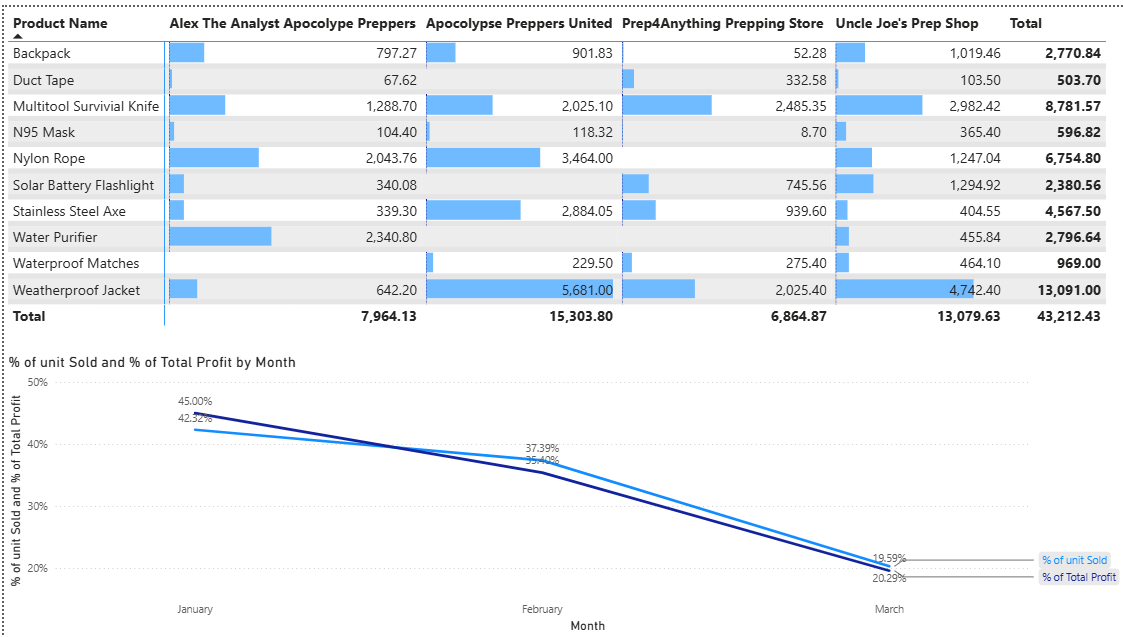

Layout of this report page (visuals, bound fields, positions):
{"tool":"powerbi","page":{"name":"Page 2","canvas":[1280,720],"ordinal":1},"visuals":[{"type":"pivotTable","fields":{"Rows":["Apocolypse Store.Product Name"],"Values":["Apocolypse Store.Total Profit"],"Columns":["Apocolypse Sales.Customer"]},"box":[0,0,1280,385],"z":0},{"type":"lineChart","fields":{"Category":["Apocolypse Sales.Date Purchased.Variation.Date Hierarchy.Month"],"Y":["Divide(Apocolypse Sales.unit, ScopedEval(Apocolypse Sales.unit, []))","Divide(Apocolypse Store.Total Profit, ScopedEval(Apocolypse Store.Total Profit, []))"]},"box":[0,395,1280,325],"z":1000}]}

Visuals, with their boxes in screenshot pixels (x1, y1, x2, y2), scaled from the page's 1280x720 canvas onto the 1123x637 screenshot:
pivotTable - Apocolypse Store.Product Name x Apocolypse Store.Total Profit: select_region(0, 0, 1122, 341)
lineChart - Apocolypse Sales.Date Purchased.Variation.Date Hierarchy.Month x Divide(Apocolypse Sales.unit, ScopedEval(Apocolypse Sales.unit, [])): select_region(0, 349, 1122, 636)
